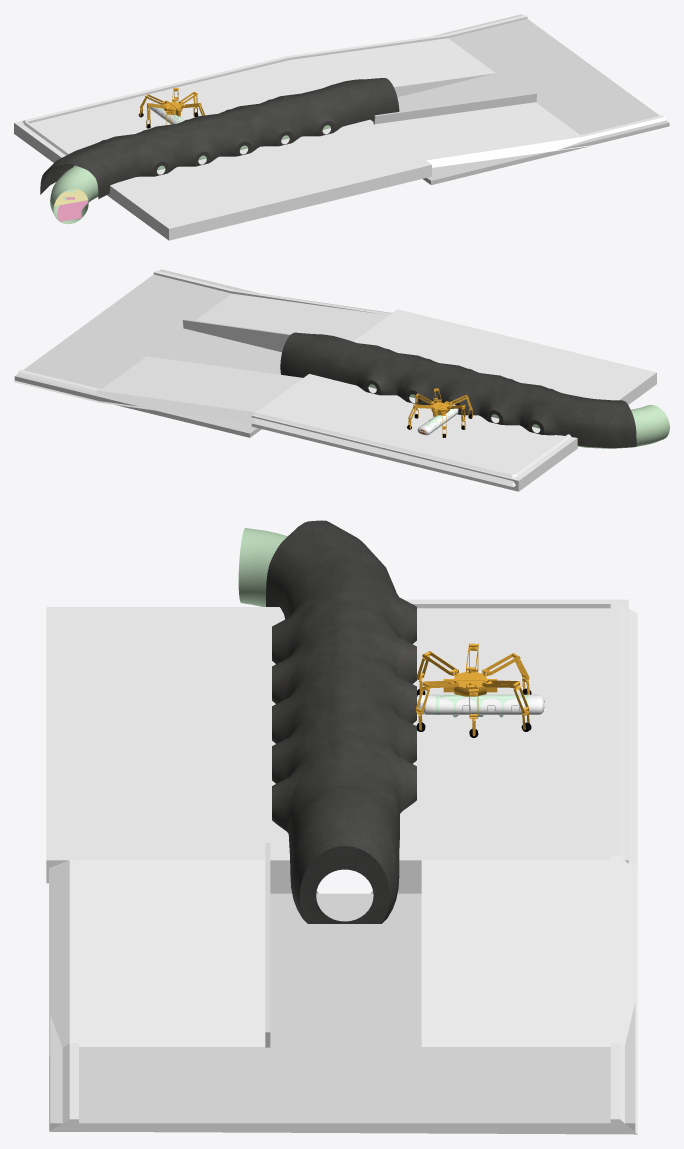
The model's file is Airlock_Bay.glb.
3 renders of one model, top to bottom at view 1: azimuth 30°, elevation 25°; view 2: azimuth 150°, elevation 25°; view 3: azimuth 270°, elevation 25°, orthographic. The views are drawn at different scales.
Parts seen in each view (by area): view 1: Bay_Grounds, Bay_Grounds-colonly.001, AirlockBayOverlay, Bay_Grounds-colonly.004, Bay_Grounds-colonly.002, Bay_Grounds-colonly.003, Bay_Grounds-colonly.005, Bay_Grounds-colonly.006, AirlockBayWalls, AthleteRover_Prop, AirlockBayLevels; view 2: Bay_Grounds, AirlockBayOverlay, Bay_Grounds-colonly.001, Bay_Grounds-colonly.005, Bay_Grounds-colonly.004, Bay_Grounds-colonly.002, Bay_Grounds-colonly.003, Bay_Grounds-colonly.006, AirlockBayWalls, AthleteRover_Prop, Ground_Passenger_Pod; view 3: Bay_Grounds, Bay_Grounds-colonly.001, Bay_Grounds-colonly.004, AirlockBayOverlay, Bay_Grounds-colonly.005, Bay_Grounds-colonly.002, Bay_Grounds-colonly.003, AthleteRover_Prop, AirlockBayWalls, Ground_Passenger_Pod, Bay_Grounds-colonly.006.
Part boxes in pixels (x1,y1,x2,y2): Bay_Grounds: (22,15,669,222); Bay_Grounds-colonly.001: (397,14,669,184); AirlockBayOverlay: (40,78,399,199); Bay_Grounds-colonly.004: (107,128,431,240); Bay_Grounds-colonly.002: (289,38,495,96); Bay_Grounds-colonly.003: (377,102,579,168); Bay_Grounds-colonly.005: (14,60,325,166); Bay_Grounds-colonly.006: (373,92,537,124); AirlockBayWalls: (50,125,330,224); AthleteRover_Prop: (138,88,204,128); AirlockBayLevels: (51,186,95,221); Bay_Grounds: (14,270,610,487); AirlockBayOverlay: (280,332,636,448); Bay_Grounds-colonly.001: (14,269,281,437); Bay_Grounds-colonly.005: (251,374,577,491); Bay_Grounds-colonly.004: (353,309,656,404); Bay_Grounds-colonly.002: (102,356,302,410); Bay_Grounds-colonly.003: (195,293,388,341); Bay_Grounds-colonly.006: (182,319,290,352); AirlockBayWalls: (368,384,669,448); AthleteRover_Prop: (407,388,472,437); Ground_Passenger_Pod: (417,404,458,435); Bay_Grounds: (49,602,637,1134); Bay_Grounds-colonly.001: (50,893,635,1131); Bay_Grounds-colonly.004: (46,607,290,883); AirlockBayOverlay: (266,520,416,923); Bay_Grounds-colonly.005: (399,599,628,881); Bay_Grounds-colonly.002: (421,860,610,1046); Bay_Grounds-colonly.003: (79,860,265,1046); AthleteRover_Prop: (415,643,531,737); AirlockBayWalls: (238,528,287,606); Ground_Passenger_Pod: (417,694,544,717); Bay_Grounds-colonly.006: (265,843,270,1047).
Size of what is drawn, in the model's own units: 273 by 25.93 by 125.
Materials: 13 (1 with a texture image).
